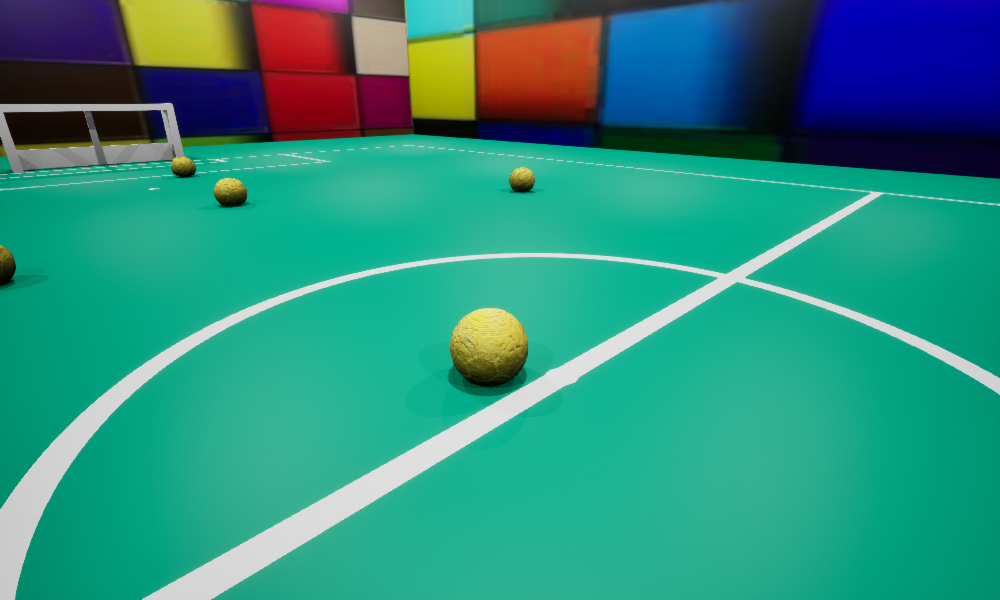b: (450, 308, 527, 385), (214, 178, 246, 205), (0, 245, 15, 285), (509, 167, 534, 191), (171, 156, 195, 176)
g: (0, 103, 184, 172)
